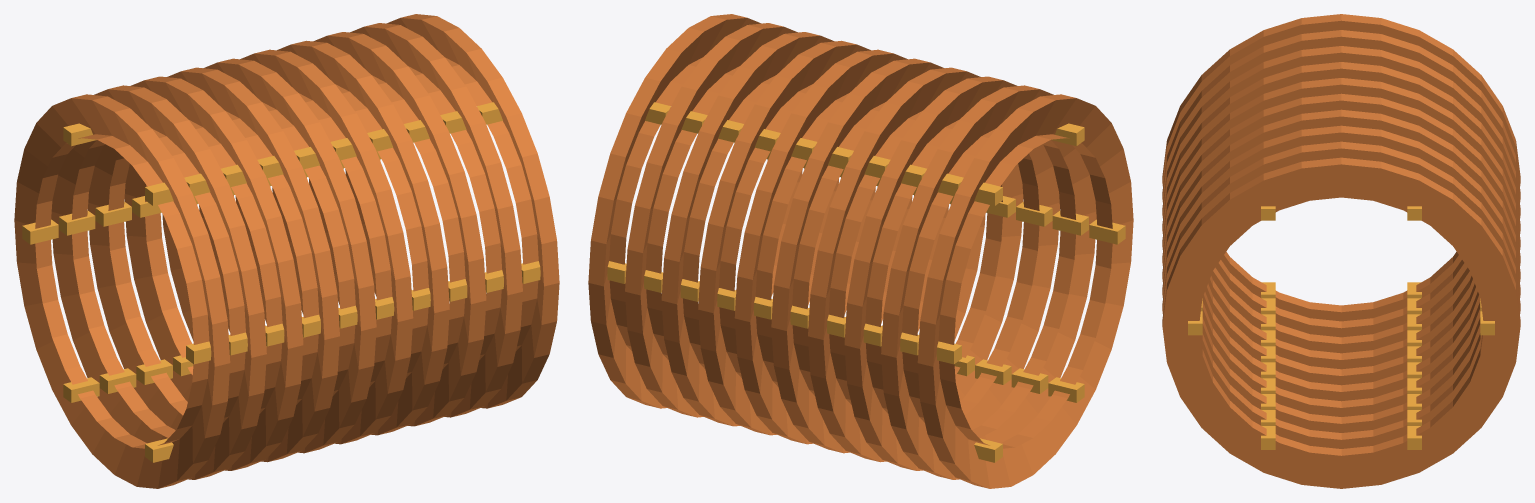
Rendered from 48_L75_MultiZoneActivationHeater.fbx.
3 renders of one model, left to right at view 1: azimuth 30°, elevation 25°; view 2: azimuth 150°, elevation 25°; view 3: azimuth 270°, elevation 25°, orthographic. The views are drawn at different scales.
Visible parts, largest first — view 1: MultiZoneActivationHeater_Part_0000, MultiZoneActivationHeater_Part_0007, MultiZoneActivationHeater_Part_0014, MultiZoneActivationHeater_Part_0021, MultiZoneActivationHeater_Part_0028, MultiZoneActivationHeater_Part_0063, MultiZoneActivationHeater_Part_0049, MultiZoneActivationHeater_Part_0042, MultiZoneActivationHeater_Part_0035, MultiZoneActivationHeater_Part_0056, MultiZoneActivationHeater_Part_0011, MultiZoneActivationHeater_Part_0004 (+2 smaller); view 2: MultiZoneActivationHeater_Part_0000, MultiZoneActivationHeater_Part_0007, MultiZoneActivationHeater_Part_0014, MultiZoneActivationHeater_Part_0021, MultiZoneActivationHeater_Part_0028, MultiZoneActivationHeater_Part_0063, MultiZoneActivationHeater_Part_0049, MultiZoneActivationHeater_Part_0042, MultiZoneActivationHeater_Part_0035, MultiZoneActivationHeater_Part_0056, MultiZoneActivationHeater_Part_0008, MultiZoneActivationHeater_Part_0001 (+2 smaller); view 3: MultiZoneActivationHeater_Part_0063, MultiZoneActivationHeater_Part_0056, MultiZoneActivationHeater_Part_0042, MultiZoneActivationHeater_Part_0049, MultiZoneActivationHeater_Part_0035, MultiZoneActivationHeater_Part_0028, MultiZoneActivationHeater_Part_0021, MultiZoneActivationHeater_Part_0014, MultiZoneActivationHeater_Part_0007, MultiZoneActivationHeater_Part_0000.
Part boxes in pixels (x1,y1,x2,y2): MultiZoneActivationHeater_Part_0000: (14,94,230,488); MultiZoneActivationHeater_Part_0007: (51,85,266,479); MultiZoneActivationHeater_Part_0014: (88,76,303,470); MultiZoneActivationHeater_Part_0021: (124,67,339,462); MultiZoneActivationHeater_Part_0028: (162,58,376,453); MultiZoneActivationHeater_Part_0063: (345,14,559,408); MultiZoneActivationHeater_Part_0049: (272,32,486,426); MultiZoneActivationHeater_Part_0042: (235,40,449,435); MultiZoneActivationHeater_Part_0035: (199,49,413,444); MultiZoneActivationHeater_Part_0056: (309,23,522,417); MultiZoneActivationHeater_Part_0011: (59,210,95,235); MultiZoneActivationHeater_Part_0004: (22,219,58,244); MultiZoneActivationHeater_Part_0000: (917,94,1133,488); MultiZoneActivationHeater_Part_0007: (881,85,1096,479); MultiZoneActivationHeater_Part_0014: (844,76,1059,470); MultiZoneActivationHeater_Part_0021: (808,67,1023,462); MultiZoneActivationHeater_Part_0028: (771,58,985,453); MultiZoneActivationHeater_Part_0063: (588,14,802,408); MultiZoneActivationHeater_Part_0049: (661,32,875,426); MultiZoneActivationHeater_Part_0042: (698,40,912,435); MultiZoneActivationHeater_Part_0035: (734,49,948,444); MultiZoneActivationHeater_Part_0056: (625,23,838,417); MultiZoneActivationHeater_Part_0008: (1052,210,1088,235); MultiZoneActivationHeater_Part_0001: (1089,219,1125,244); MultiZoneActivationHeater_Part_0063: (1162,157,1520,488); MultiZoneActivationHeater_Part_0056: (1162,141,1520,448); MultiZoneActivationHeater_Part_0042: (1162,109,1520,416); MultiZoneActivationHeater_Part_0049: (1162,125,1520,432); MultiZoneActivationHeater_Part_0035: (1162,93,1520,401); MultiZoneActivationHeater_Part_0028: (1162,78,1520,385); MultiZoneActivationHeater_Part_0021: (1162,62,1520,369); MultiZoneActivationHeater_Part_0014: (1162,46,1520,353); MultiZoneActivationHeater_Part_0007: (1162,30,1520,337); MultiZoneActivationHeater_Part_0000: (1162,14,1520,321).
Size of the model in its own units: 101 by 98 by 98.
